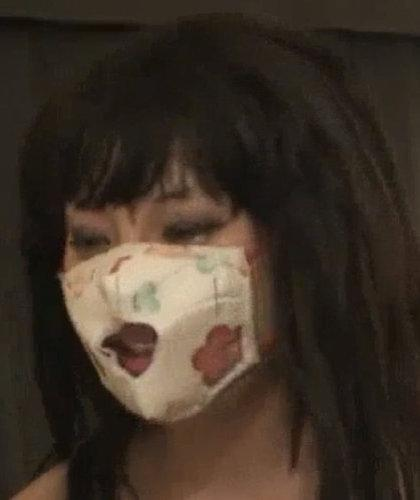OK: (58, 185, 283, 421)
